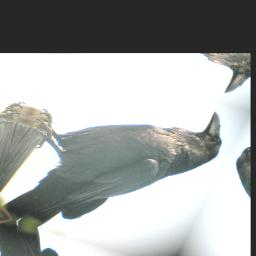Crow: (0, 64, 239, 256)
